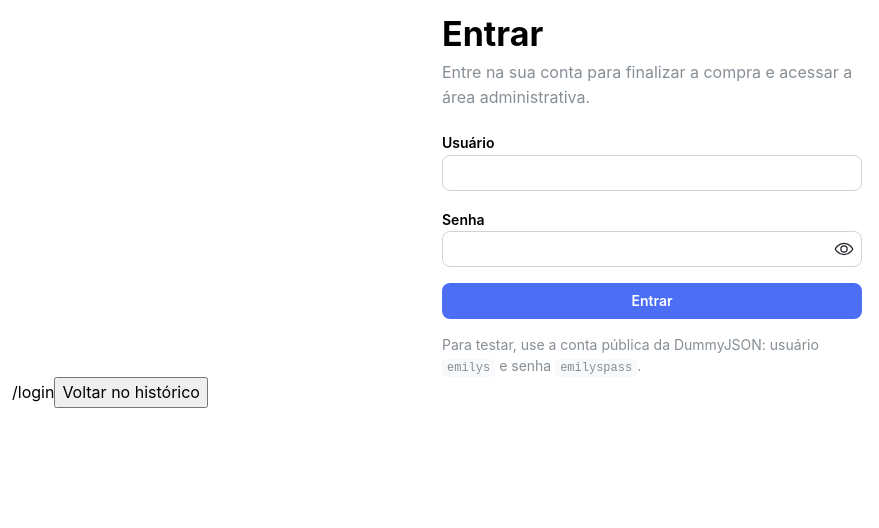
Test: LoginPage › numa falha de comunicação, mostra o motivo
Type "emilys" into the field labelled "Usuário" at (652, 173), box [442,155,862,191]
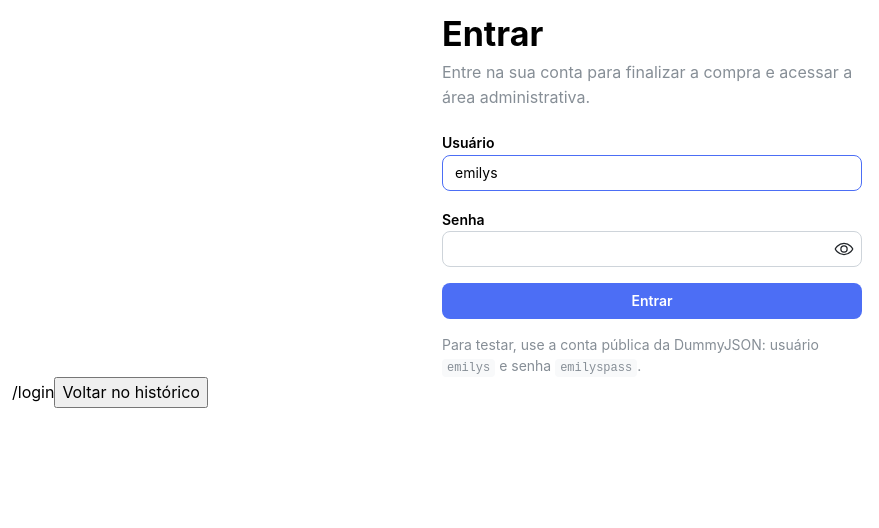
Type "emilyspass" into the password field labelled "Senha" at (652, 249), box [443,232,861,266]
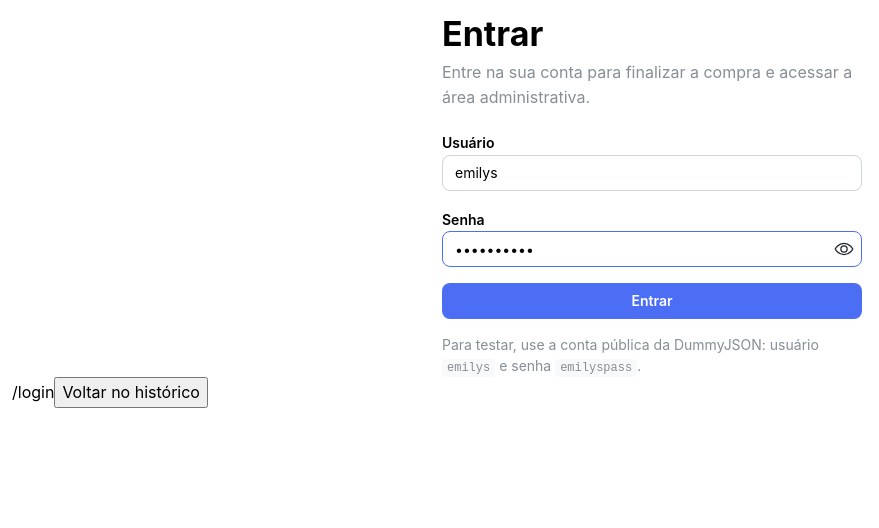
Click the button "Entrar" at (652, 301), box [442,283,862,319]
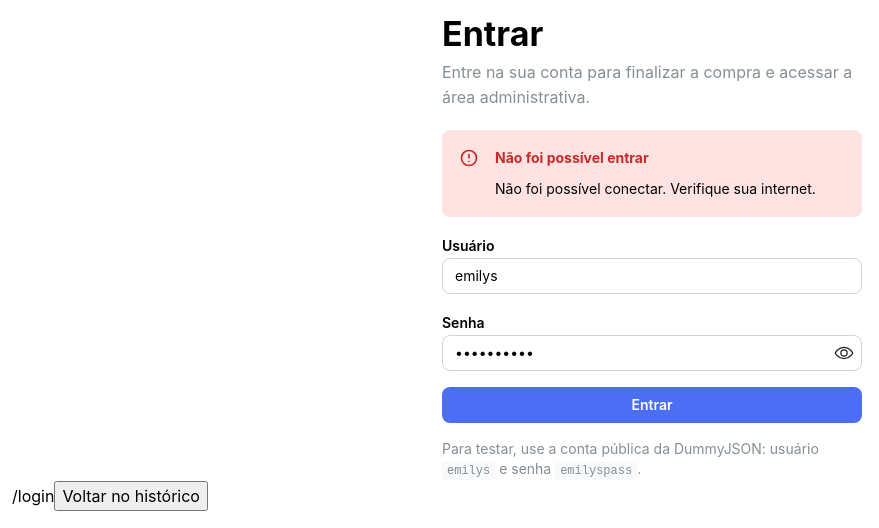
Result: the message shows "Não foi possível conectar. Verifique sua internet." at [495,180,816,198]
